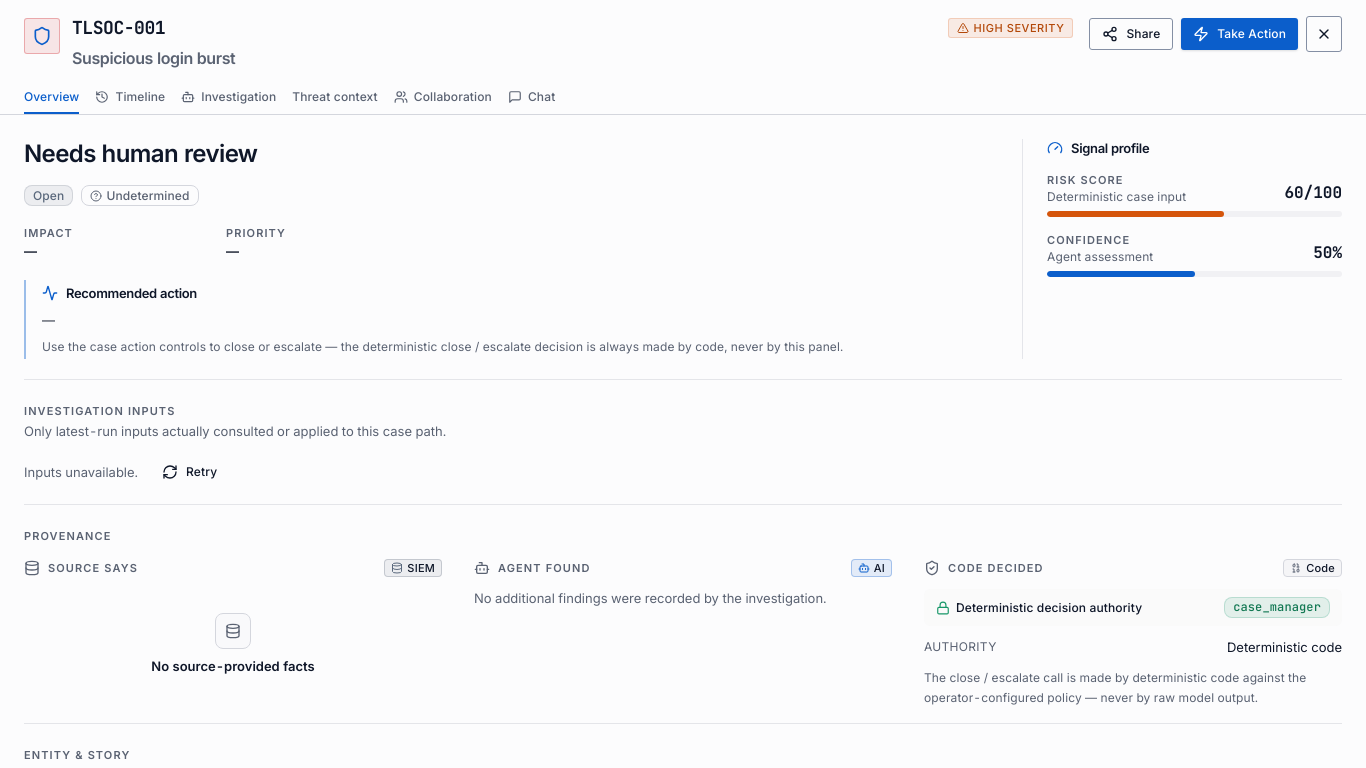
Test: CaseDetail — single panel-dismiss control (BUG-3) › keeps actionable embedded controls in Take Action without repeating visible tabs
Expected: the heading "Suspicious login burst" is shown, [72,48,235,68]
Click the button "Take Action": [1240, 34] box [1181,18,1298,50]
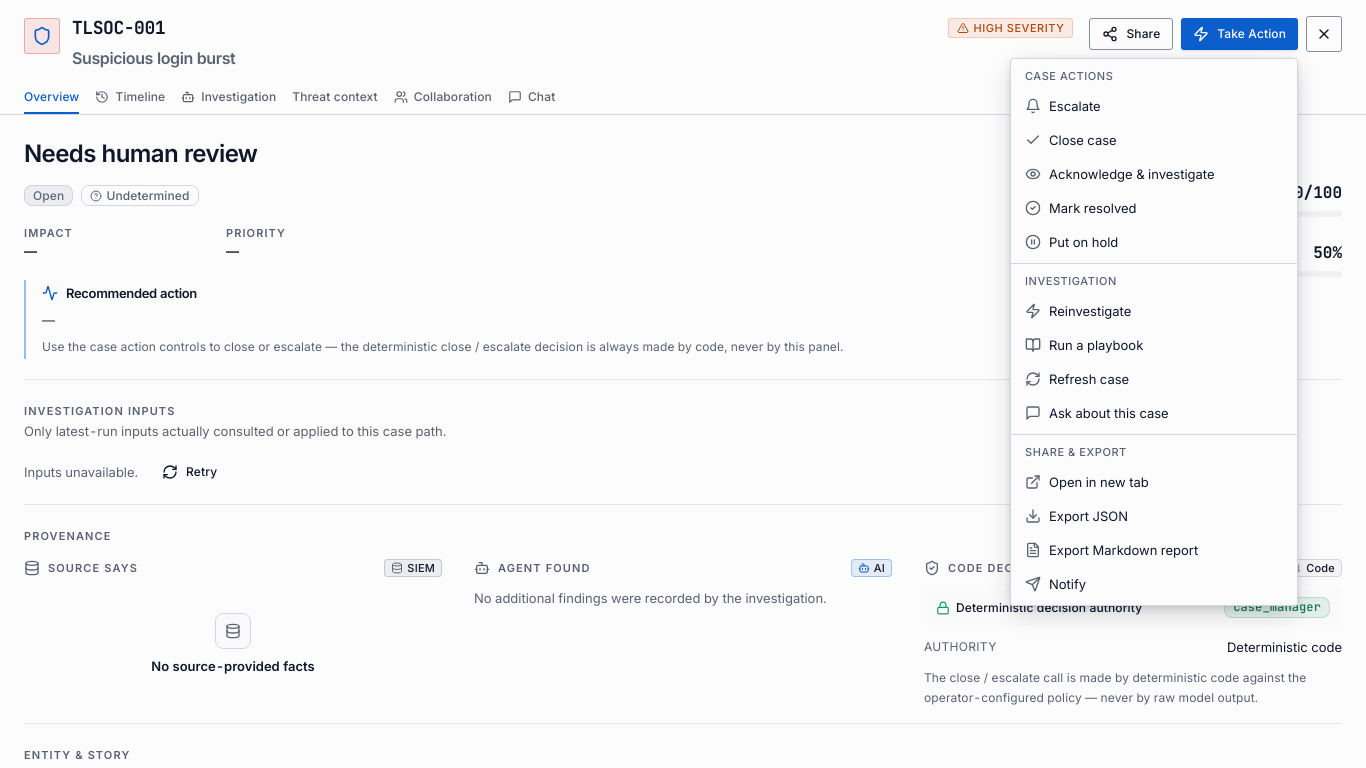
Now the menu item "Escalate" is shown, box [1025,98,1101,114]
Now the menu item "Close case" is shown, box [1025,132,1117,148]
Now the menu item "Acknowledge & investigate" is shown, box [1025,166,1214,182]
Click the menu item "Reinvestigate": [1078, 311] box [1025,303,1131,319]
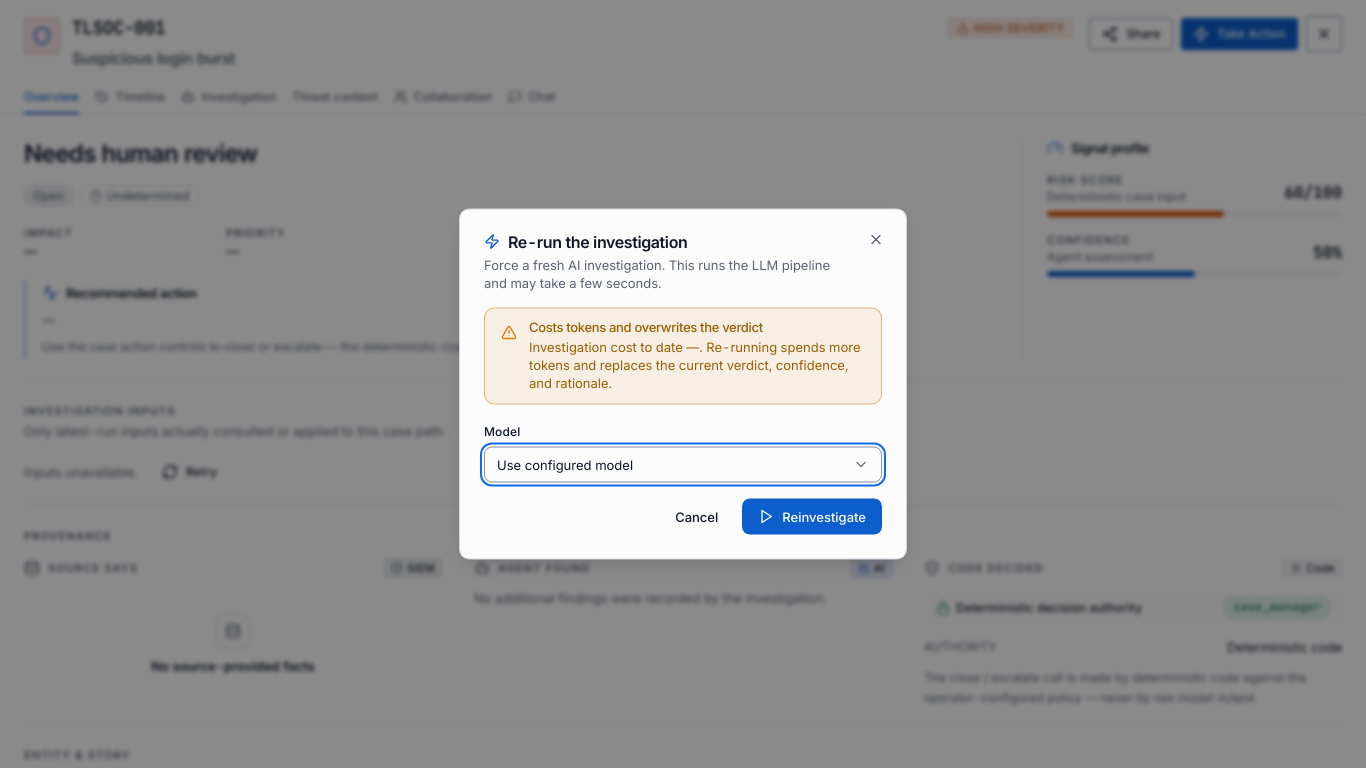
Now the dialog "Re-run the investigation" is shown, box [459,208,907,560]
